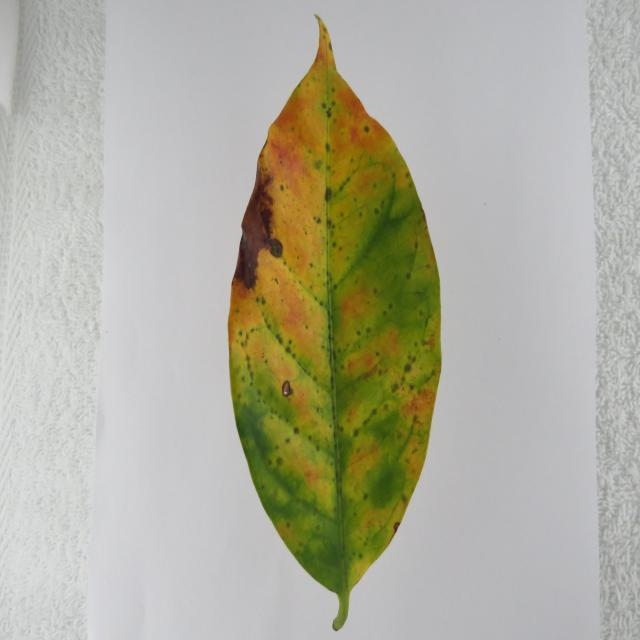DeficienciaNutricional-Fosforo: (229, 17, 441, 630)
